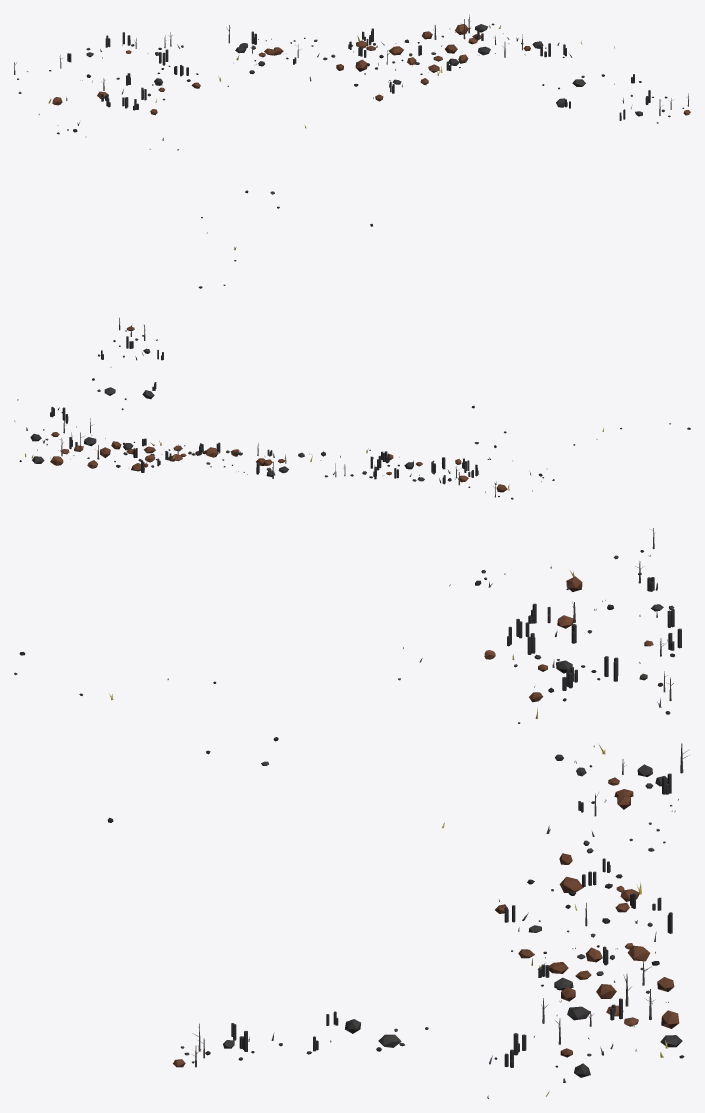
File: ash_land_scatter_c18_28_lod1.glb
3 views of the same model, one above another, from view 1: azimuth 30°, elevation 25°; view 2: azimuth 150°, elevation 25°; view 3: azimuth 270°, elevation 25° (orthographic). The views are drawn at different scales.
Visible parts, largest first — view 1: ash_land_scatter_c18_28_lod1; view 2: ash_land_scatter_c18_28_lod1; view 3: ash_land_scatter_c18_28_lod1.
Part boxes in pixels (x1,y1,x2,y2): ash_land_scatter_c18_28_lod1: (14,14,690,288); ash_land_scatter_c18_28_lod1: (14,317,690,499); ash_land_scatter_c18_28_lod1: (14,528,689,1098).
Size of the model in its own units: 252 by 39.89 by 162.
